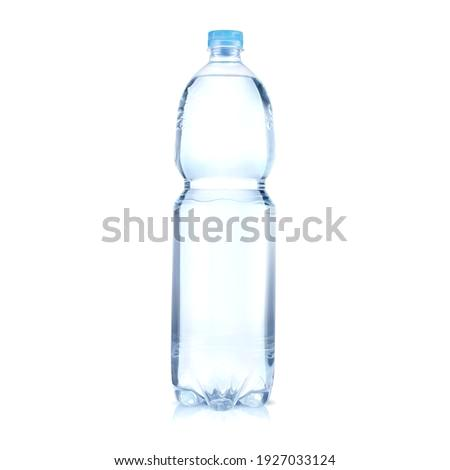bottle: (162, 16, 290, 431)
